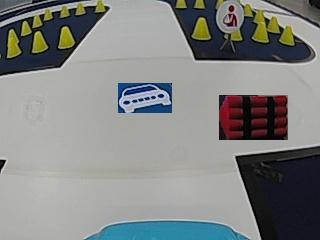cone: (192, 17, 211, 40), (6, 29, 21, 57), (253, 18, 269, 43), (57, 27, 75, 49), (32, 31, 49, 52), (279, 25, 295, 46), (267, 15, 279, 32), (21, 20, 32, 35), (93, 0, 105, 13), (75, 2, 86, 15), (59, 5, 70, 17), (32, 15, 43, 26), (43, 8, 53, 20), (175, 0, 187, 9), (194, 0, 205, 9)
patient: (218, 2, 242, 30)
